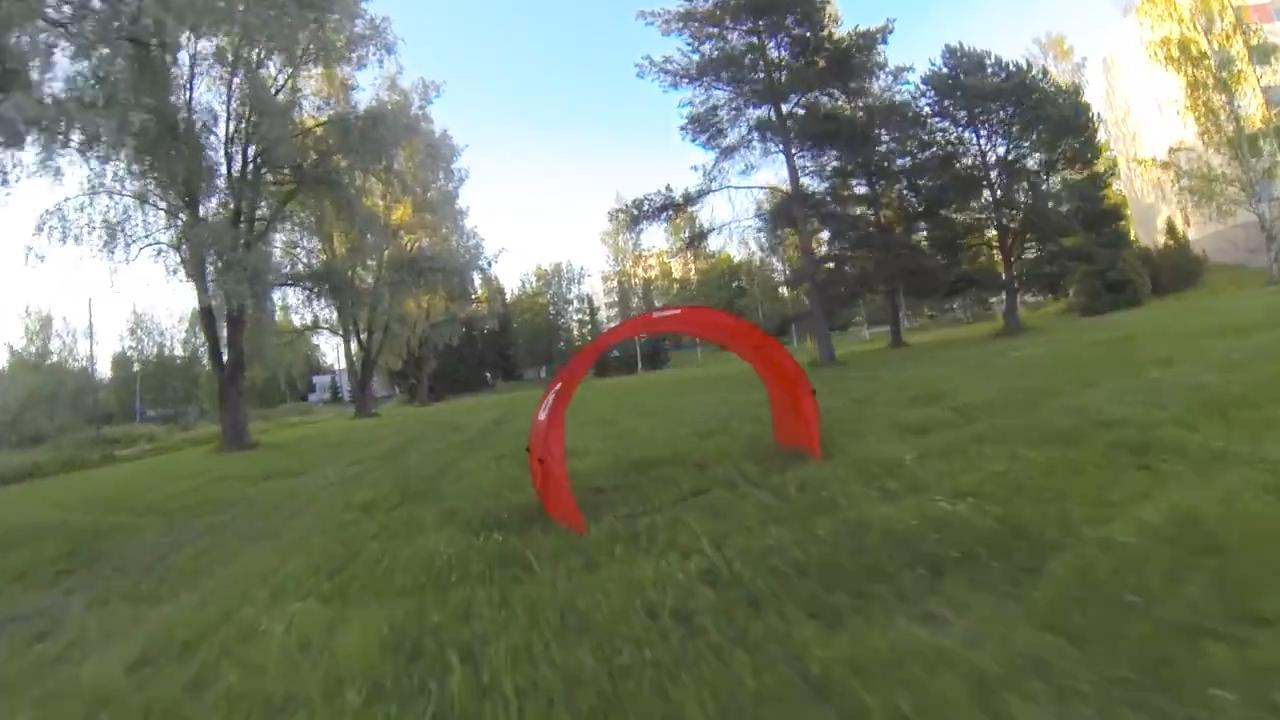gate: (523, 301, 838, 529)
